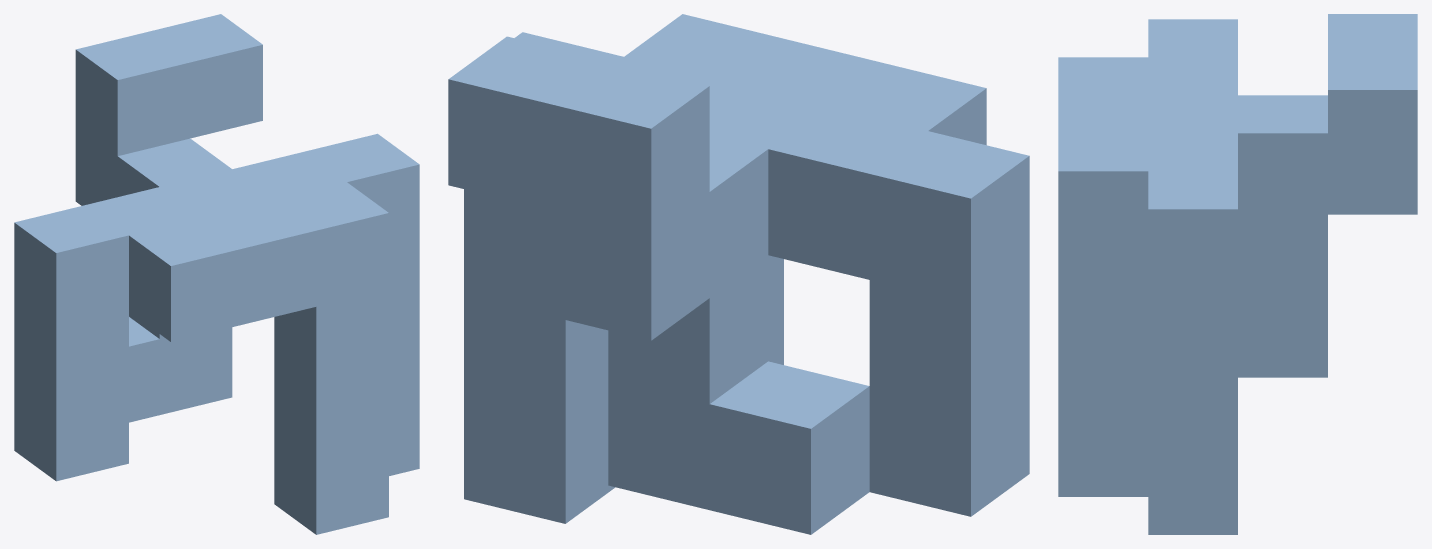
The picture shows the model from 3 angles, left to right: view 1: azimuth 30°, elevation 25°; view 2: azimuth 150°, elevation 25°; view 3: azimuth 270°, elevation 25°; orthographic projection. The views are drawn at different scales.
Visible parts, largest first — view 1: _changes (2).011; view 2: _changes (2).011; view 3: _changes (2).011.
Part boxes in pixels (box(x1,y1,x2,y2)): _changes (2).011: box(14, 14, 419, 534); _changes (2).011: box(448, 14, 1029, 534); _changes (2).011: box(1058, 14, 1417, 534).
Size of the model in its own units: 0.1999 by 0.1999 by 0.1599.
